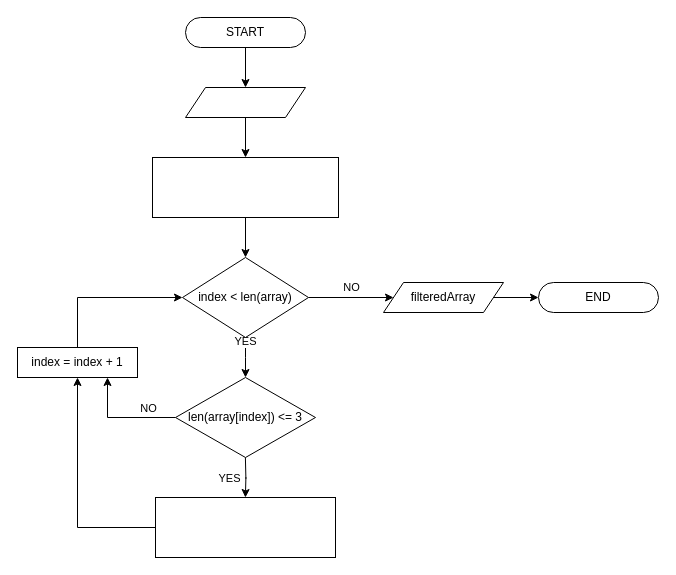
The diagram is 676 pixels wide and 575 high, and some of its shapes have lost their labels. Each missing label, with the centre of its shape:
"array" belongs at point (245, 102).
"index = 0 filteredArray = []" belongs at point (245, 187).
"ДОБАВЛЕНИЕ array[index] В filteredArray" belongs at point (245, 527).
